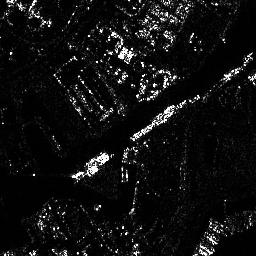ship: (81, 151, 107, 167), (155, 103, 175, 119), (70, 170, 84, 178)
